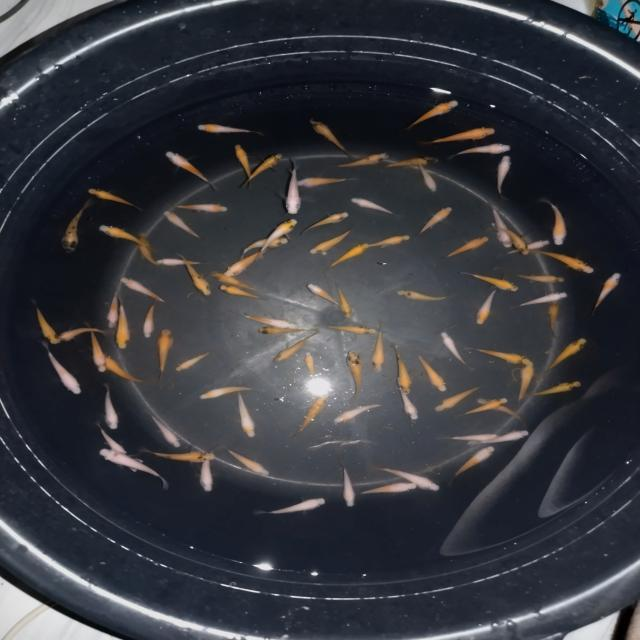nila: (91, 446, 170, 489), (371, 462, 443, 497), (398, 96, 461, 134), (163, 148, 219, 190), (42, 346, 86, 398), (304, 115, 354, 160), (448, 442, 498, 487), (428, 380, 488, 416), (538, 336, 588, 378), (421, 121, 497, 148), (255, 493, 328, 521), (290, 390, 330, 440), (256, 215, 300, 260), (453, 268, 519, 296), (174, 252, 214, 298), (56, 201, 90, 255), (92, 350, 144, 385), (237, 152, 284, 190), (221, 443, 271, 478), (150, 326, 178, 388), (532, 247, 596, 274), (434, 330, 477, 370), (586, 271, 624, 316), (95, 223, 156, 251), (305, 226, 358, 258), (216, 247, 267, 280), (230, 382, 259, 440), (411, 205, 455, 243), (442, 140, 517, 162), (146, 412, 187, 452), (410, 353, 450, 394), (83, 320, 111, 378), (270, 332, 320, 364), (322, 242, 372, 274), (88, 419, 130, 457), (490, 222, 532, 260), (389, 378, 424, 423), (475, 394, 527, 424), (30, 299, 63, 346), (470, 278, 502, 326), (467, 343, 533, 366), (85, 186, 143, 212), (540, 197, 570, 247), (140, 446, 222, 464), (233, 234, 294, 258), (390, 341, 416, 397), (196, 382, 268, 402), (450, 394, 510, 418), (279, 161, 304, 218), (485, 203, 515, 250), (332, 402, 384, 429), (331, 150, 392, 173), (194, 446, 222, 496), (210, 266, 260, 294), (440, 233, 490, 261), (379, 152, 442, 174), (334, 459, 360, 511), (117, 275, 165, 303), (115, 293, 137, 354), (507, 288, 568, 310), (302, 208, 352, 234), (191, 120, 263, 138), (343, 348, 366, 403), (302, 280, 344, 310), (162, 208, 201, 240), (492, 152, 516, 204), (347, 195, 400, 218), (133, 230, 164, 269), (353, 481, 419, 499), (472, 428, 531, 448), (411, 154, 439, 196), (240, 312, 298, 332), (233, 142, 256, 192), (290, 173, 357, 190), (528, 378, 584, 398), (172, 348, 215, 374), (434, 429, 508, 444), (392, 288, 457, 305), (360, 232, 414, 252), (99, 382, 121, 431), (368, 316, 386, 375), (502, 238, 550, 260), (216, 282, 268, 302), (52, 327, 114, 343), (102, 288, 126, 329), (138, 298, 160, 342), (516, 361, 536, 408), (324, 322, 382, 338), (334, 280, 356, 322), (505, 271, 571, 285), (170, 200, 233, 214), (152, 255, 212, 268), (254, 326, 320, 336), (545, 298, 560, 340), (302, 350, 316, 383)
